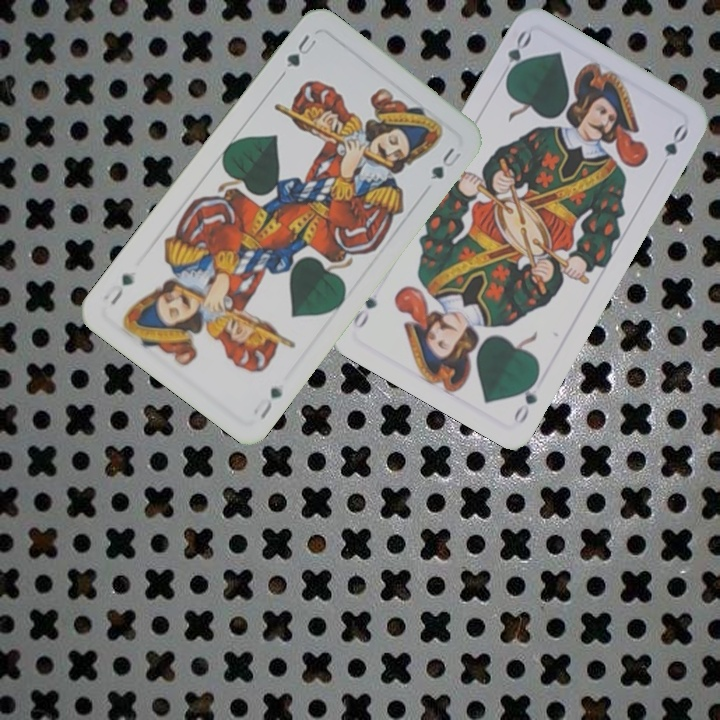GO: (496, 27, 534, 85), (509, 369, 542, 427)
GU: (282, 30, 319, 71), (249, 383, 286, 423)
